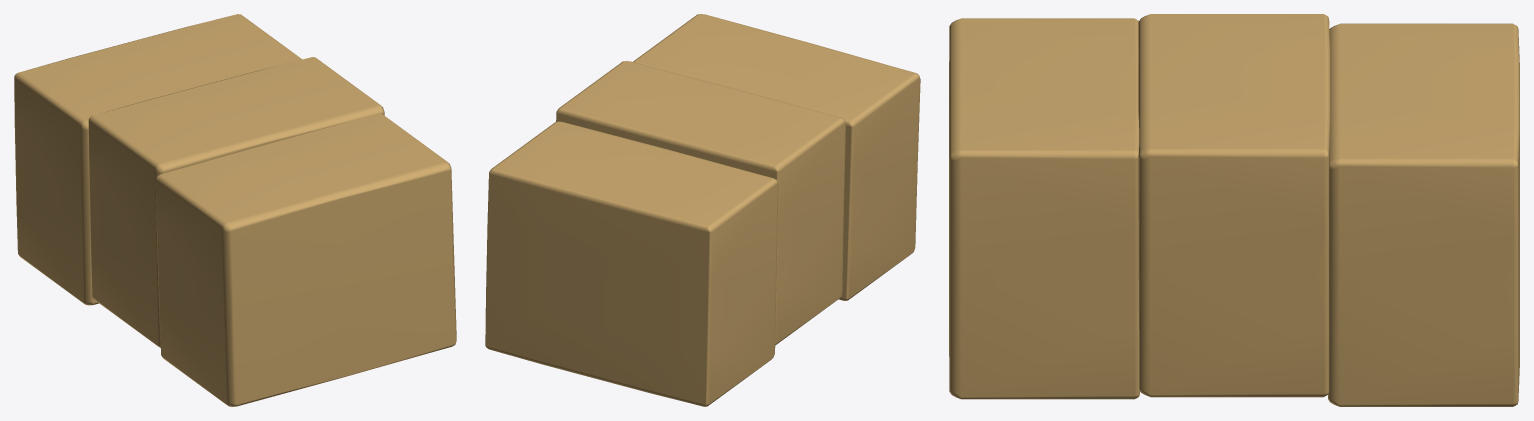
The model's file is cardboard-pile.glb.
3 views of the same model, side by side, from view 1: azimuth 30°, elevation 25°; view 2: azimuth 150°, elevation 25°; view 3: azimuth 270°, elevation 25° (orthographic). The views are drawn at different scales.
Visible parts, largest first — view 1: FtrCardboardPile_node1; view 2: FtrCardboardPile_node1; view 3: FtrCardboardPile_node1.
Part boxes in pixels (bbox=[...]): FtrCardboardPile_node1: bbox=[14, 14, 456, 406]; FtrCardboardPile_node1: bbox=[485, 14, 920, 406]; FtrCardboardPile_node1: bbox=[949, 14, 1519, 406].
Bounding box in the file's own units: 9.33 × 7.52 × 14.71.
